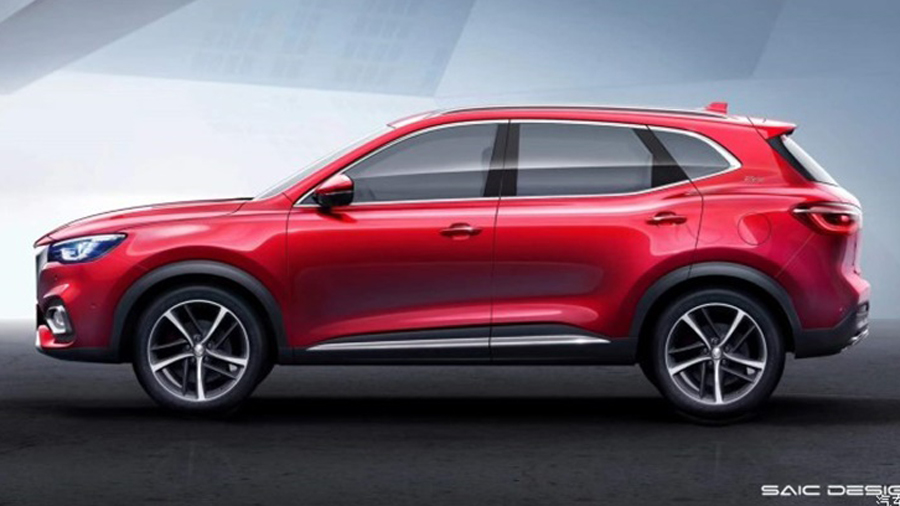pickup: (31, 101, 874, 426)
